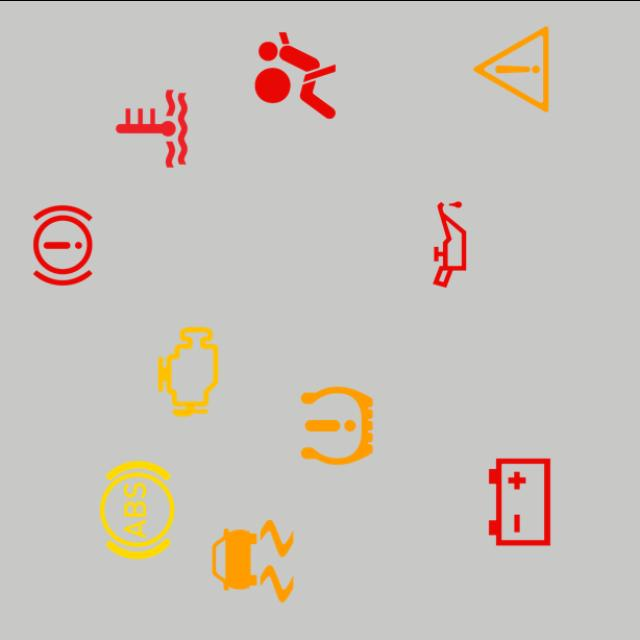Anti Lock Braking System: (83, 455, 191, 563)
Braking System Issue: (9, 190, 117, 298)
Charging System Issue: (466, 447, 574, 555)
Check Engine: (134, 316, 242, 424)
Electronic Stability Problem -ESP-: (199, 506, 307, 614)
Engine Overheating Warning Light: (98, 74, 206, 182)
Low Engine Oil Warning Light: (396, 190, 504, 298)
Low Tire Pressure Warning Light: (283, 371, 391, 479)
Master warning light: (458, 14, 566, 122)
SRS-Airbag: (242, 20, 350, 128)
